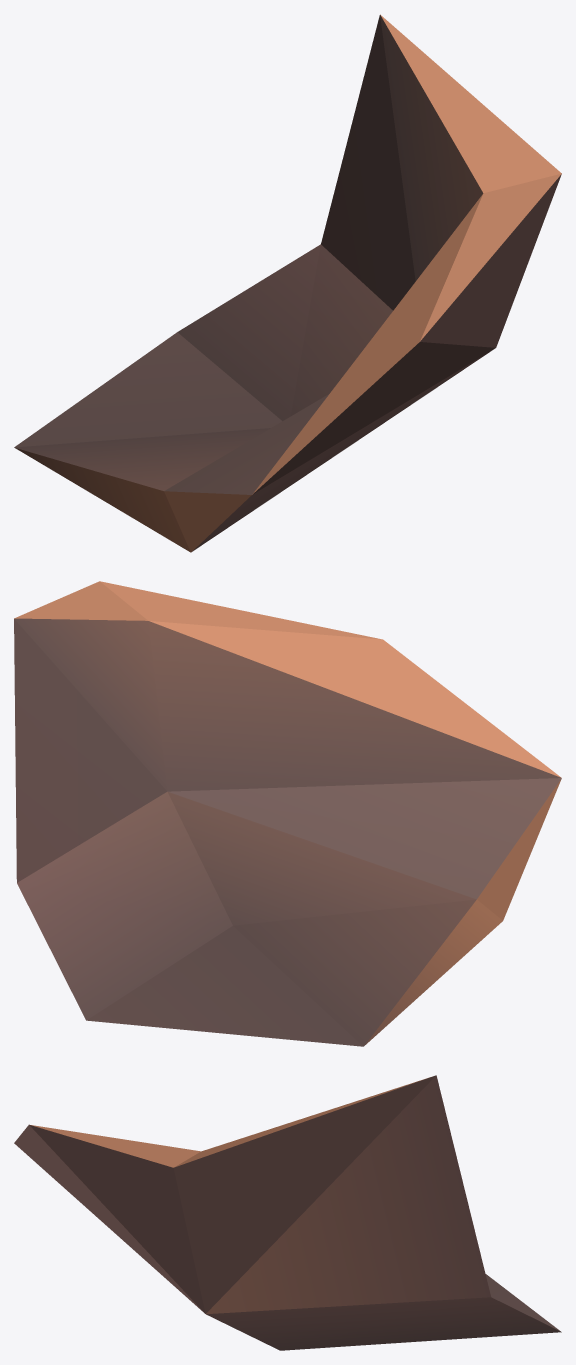
File: Mixed_Vase_piece_02.fbx
The picture shows the model from 3 angles, top to bottom: view 1: azimuth 30°, elevation 25°; view 2: azimuth 150°, elevation 25°; view 3: azimuth 270°, elevation 25°; orthographic projection. The views are drawn at different scales.
Visible parts, largest first — view 1: Vase_piece_02.001; view 2: Vase_piece_02.001; view 3: Vase_piece_02.001.
Boxes of the visible parts, x1,y1,x2,y2 form: Vase_piece_02.001: (14,14,561,552); Vase_piece_02.001: (14,581,561,1046); Vase_piece_02.001: (14,1075,561,1350).
Size of the model in its own units: 70.34 by 57.1 by 83.69.
